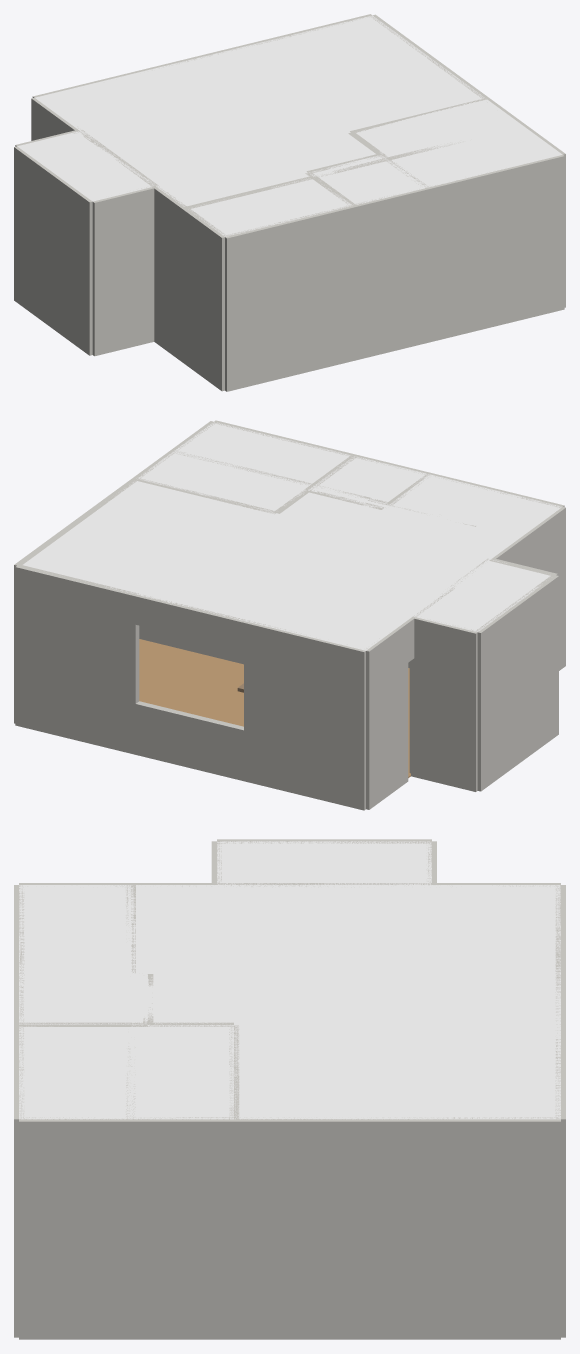
Rendered from demo-apartment.glb.
3 views of the same model, one above another, from view 1: azimuth 30°, elevation 25°; view 2: azimuth 150°, elevation 25°; view 3: azimuth 270°, elevation 25° (orthographic). The views are drawn at different scales.
Visible parts, largest first — view 1: Ceiling_living, Wall_stairs_front, Wall_bathroom_front, Wall_balcony_left, Wall_utility_front, Ceiling_stairs, Wall_balcony_front, Wall_bathroom_left, Ceiling_bathroom, Wall_living_left_L, Ceiling_balcony, Ceiling_utility (+3 smaller); view 2: Ceiling_living, Wall_living_back_R, Wall_living_back_L, Wall_balcony_left, Wall_balcony_back, Ceiling_stairs, Wall_living_left_R, Floor_living, Wall_living_back_B, Ceiling_bathroom, Ceiling_balcony, Wall_living_back_T (+6 smaller); view 3: Ceiling_living, Wall_living_right, Wall_stairs_right, Ceiling_stairs, Ceiling_bathroom, Ceiling_balcony, Ceiling_utility, Wall_stairs_front, Wall_living_back_R, Wall_balcony_left, Wall_living_back_L, Wall_bathroom_front (+1 smaller).
Boxes of the visible parts, x1,y1,x2,y2 form: Ceiling_living: [35, 15, 485, 206]; Wall_stairs_front: [426, 155, 564, 342]; Wall_bathroom_front: [223, 205, 355, 391]; Wall_balcony_left: [14, 146, 92, 355]; Wall_utility_front: [352, 187, 428, 360]; Ceiling_stairs: [356, 99, 562, 187]; Wall_balcony_front: [92, 185, 156, 356]; Wall_bathroom_left: [182, 208, 226, 391]; Ceiling_bathroom: [188, 178, 352, 236]; Wall_living_left_L: [115, 159, 186, 362]; Ceiling_balcony: [17, 131, 153, 201]; Ceiling_utility: [309, 155, 425, 204]; Ceiling_living: [23, 452, 521, 650]; Wall_living_back_R: [15, 564, 139, 754]; Wall_living_back_L: [244, 620, 365, 810]; Wall_balcony_left: [475, 575, 558, 791]; Wall_balcony_back: [411, 616, 478, 791]; Ceiling_stairs: [136, 422, 351, 512]; Wall_living_left_R: [366, 622, 408, 809]; Floor_living: [139, 639, 410, 777]; Wall_living_back_B: [135, 701, 243, 781]; Ceiling_bathroom: [390, 474, 561, 536]; Ceiling_balcony: [413, 559, 550, 631]; Wall_living_back_T: [135, 594, 245, 650]; Ceiling_living: [131, 885, 560, 1119]; Wall_living_right: [131, 1117, 560, 1339]; Wall_stairs_right: [19, 1117, 233, 1339]; Ceiling_stairs: [19, 1025, 233, 1119]; Ceiling_bathroom: [19, 885, 130, 973]; Ceiling_balcony: [217, 841, 431, 884]; Ceiling_utility: [19, 974, 147, 1024]; Wall_stairs_front: [14, 1025, 24, 1337]; Wall_living_back_R: [555, 1038, 565, 1337]; Wall_balcony_left: [217, 839, 431, 843]; Wall_living_back_L: [555, 885, 565, 965]; Wall_bathroom_front: [14, 885, 24, 973].
Bounding box in the file's own units: 7.77 × 2.8 × 6.42.
